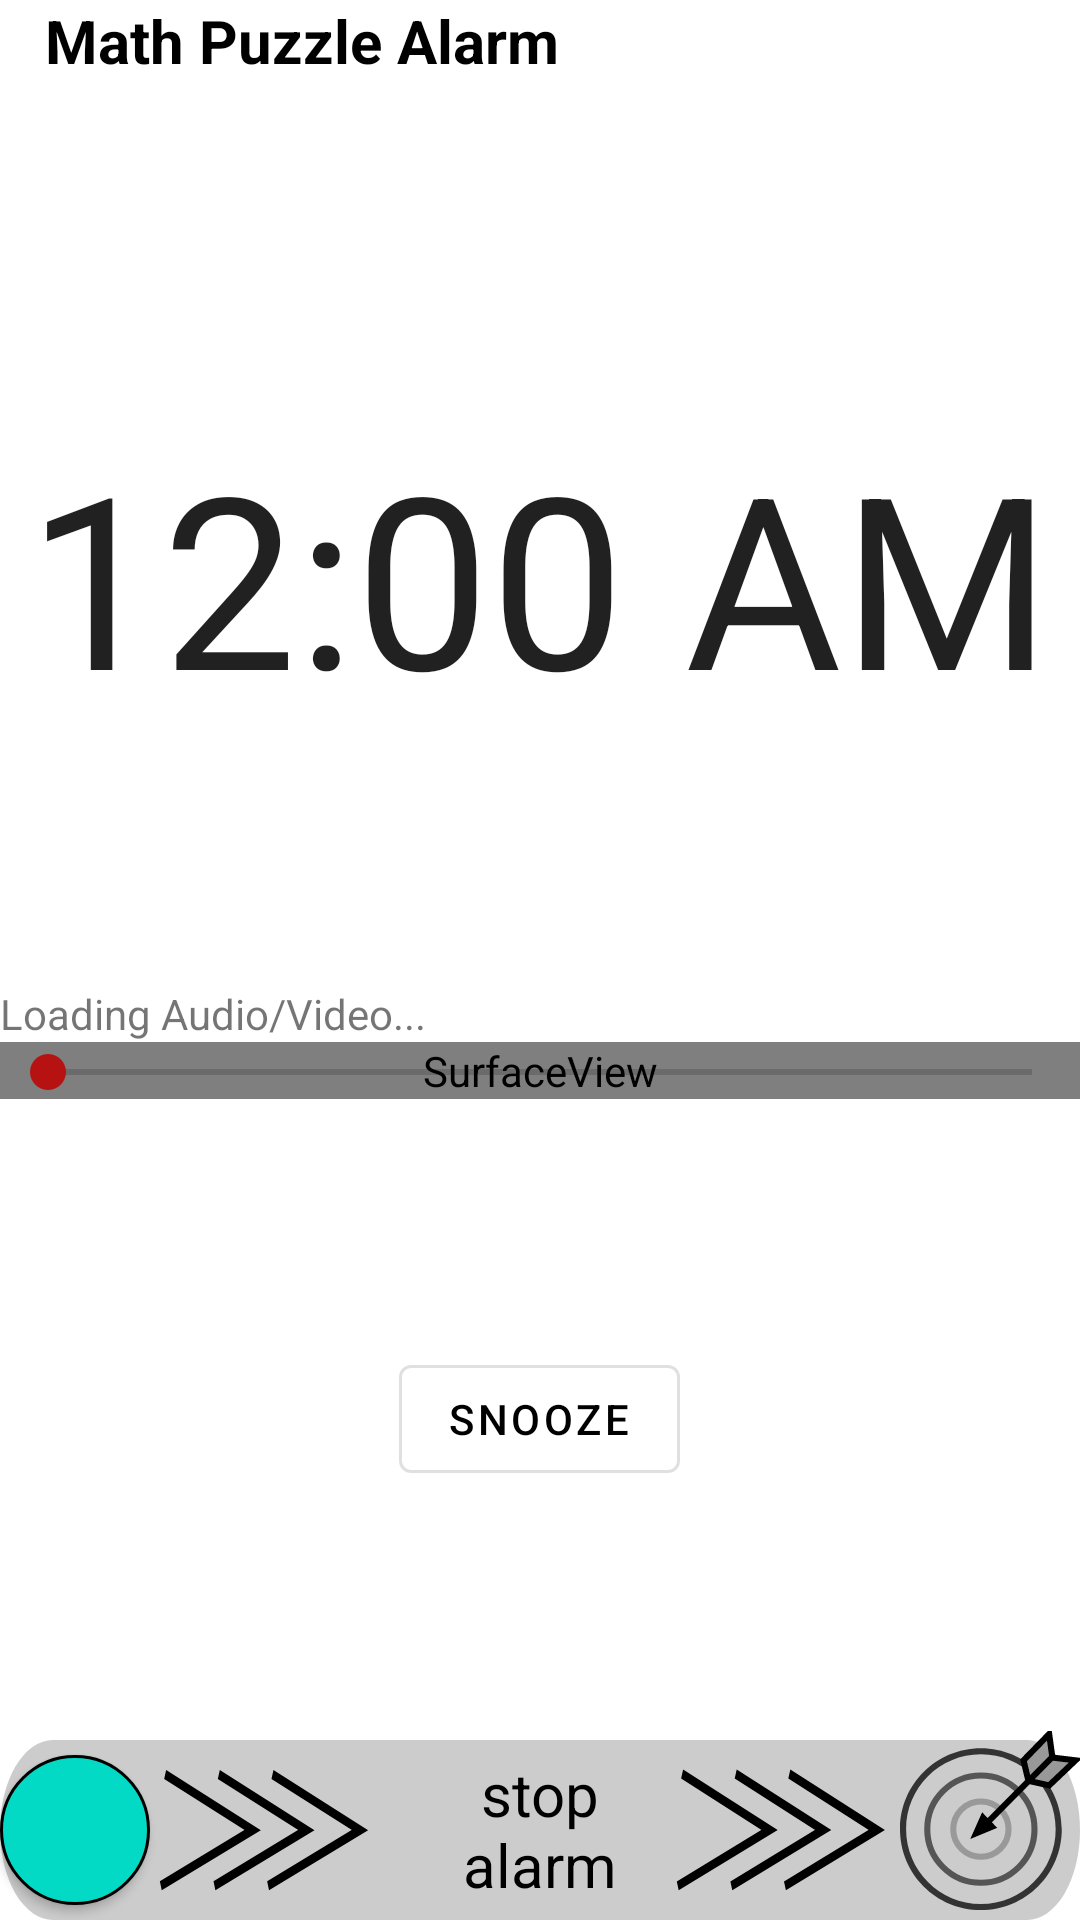

Point at icon controls on the screen. Image size 1080x1920, points as point (x, y).
target: point (990, 1821)
